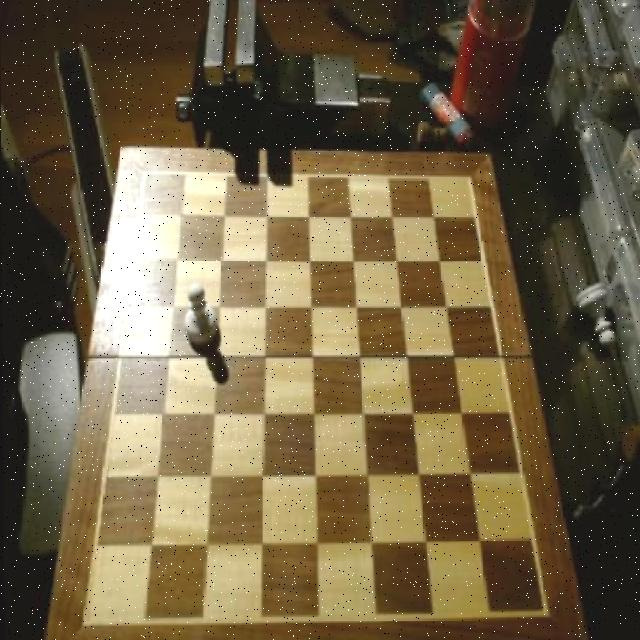white-knight: (181, 275, 220, 351)
